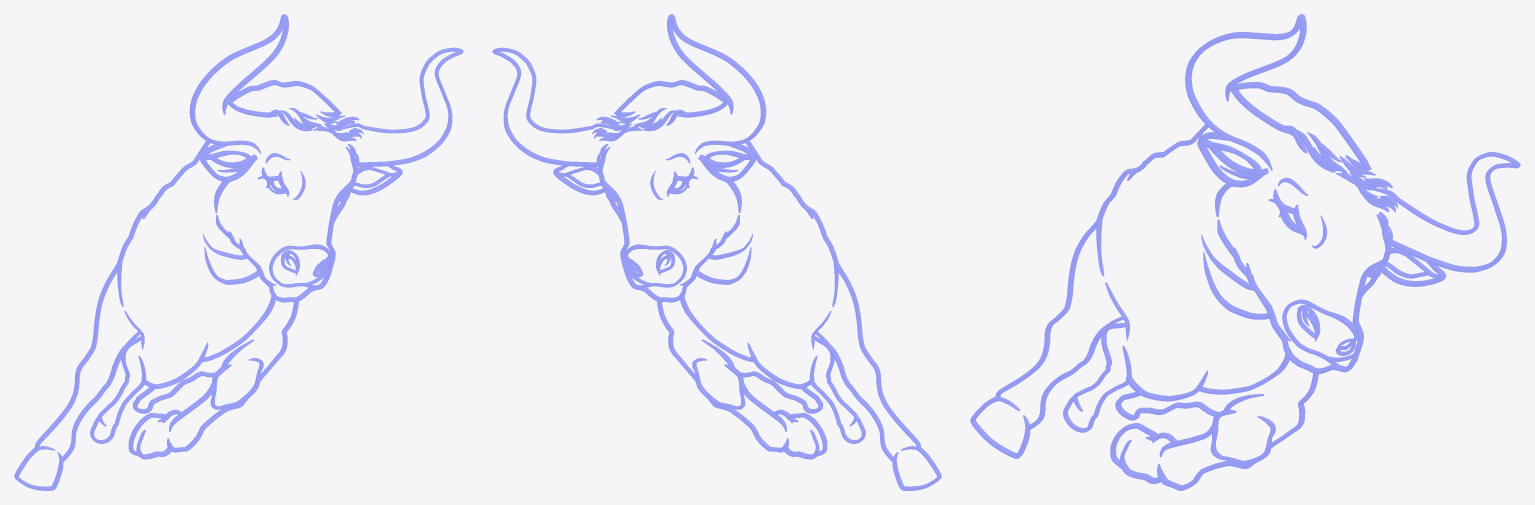
Rendered from taurus-constellation-dhazele-cotton-blue.glb.
3 views of the same model, side by side, from view 1: azimuth 30°, elevation 25°; view 2: azimuth 150°, elevation 25°; view 3: azimuth 330°, elevation 25° (orthographic). The views are drawn at different scales.
Parts seen in each view (by area): view 1: BezierCurve.001; view 2: BezierCurve.001; view 3: BezierCurve.001.
Part boxes in pixels (x1,y1,x2,y2): BezierCurve.001: (14,14,463,490); BezierCurve.001: (492,14,941,490); BezierCurve.001: (970,14,1520,490).
Size of the model in its own units: 3.89 by 3.48 by 0.0528.
